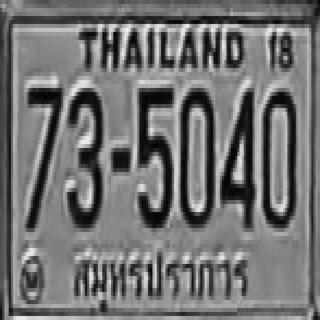N00: (179, 84, 213, 224), (262, 84, 295, 224)
N03: (65, 84, 102, 224)
N04: (219, 84, 254, 224)
N05: (137, 84, 172, 224)
N07: (25, 84, 62, 228)
P57: (73, 241, 252, 311)
